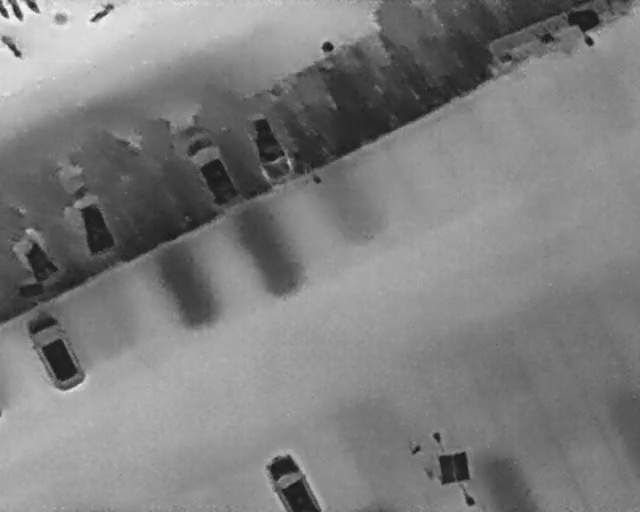Bicycle: (85, 0, 115, 27), (0, 33, 25, 60), (7, 0, 24, 21), (20, 0, 42, 16), (0, 0, 11, 20)
Car: (15, 300, 92, 400), (179, 130, 247, 218), (239, 108, 301, 192), (61, 178, 121, 263), (1, 220, 67, 293), (266, 451, 325, 511)
